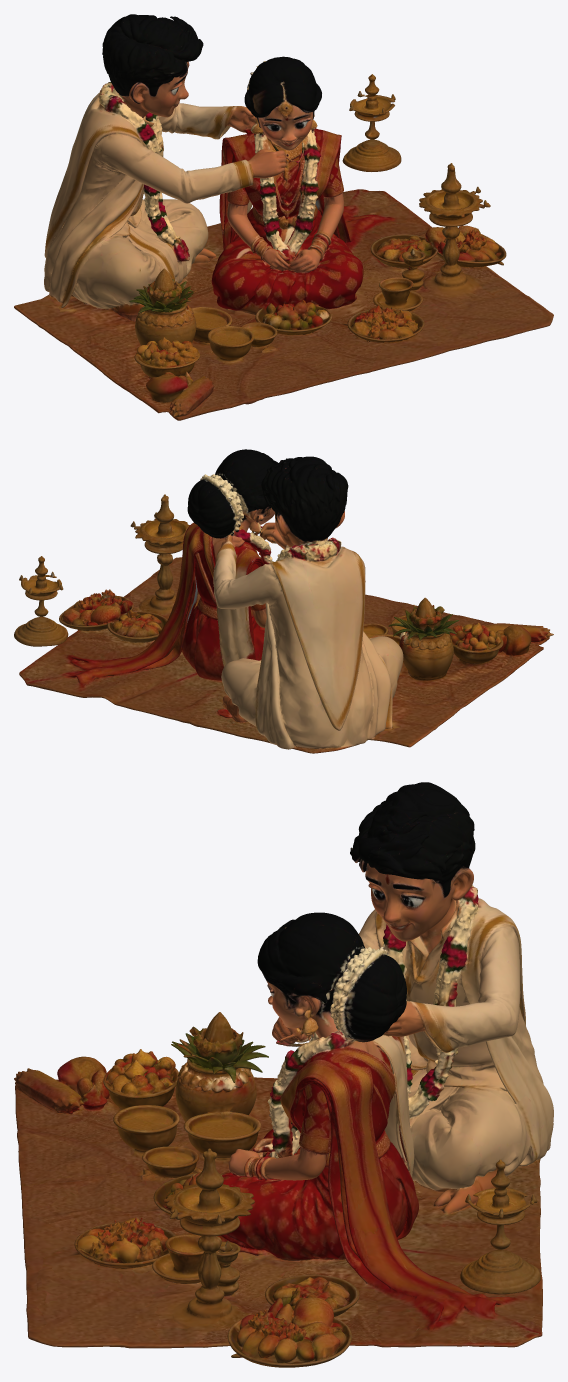
3 renders of one model, top to bottom at view 1: azimuth 30°, elevation 25°; view 2: azimuth 150°, elevation 25°; view 3: azimuth 270°, elevation 25°, orthographic. The views are drawn at different scales.
Visible parts, largest first — view 1: mesh_node; view 2: mesh_node; view 3: mesh_node.
Part boxes in pixels (x1,y1,x2,y2): mesh_node: [14, 14, 553, 420]; mesh_node: [14, 449, 553, 753]; mesh_node: [14, 782, 553, 1367].
Size of the model in its own units: 1.9 by 1.18 by 1.51.
1 material, 1 textured.
